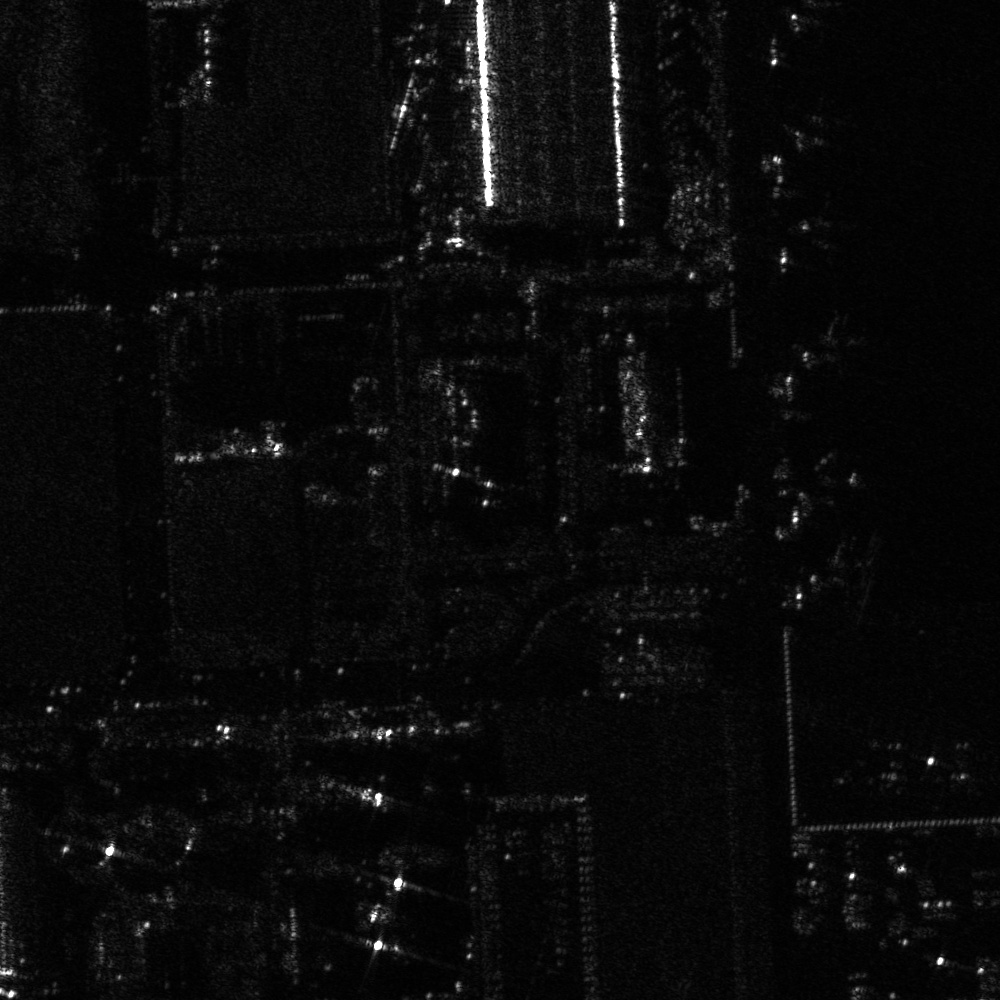A220: (774, 447, 866, 510)
A320/321: (783, 310, 872, 381)
other: (770, 93, 862, 158), (782, 196, 869, 260)
